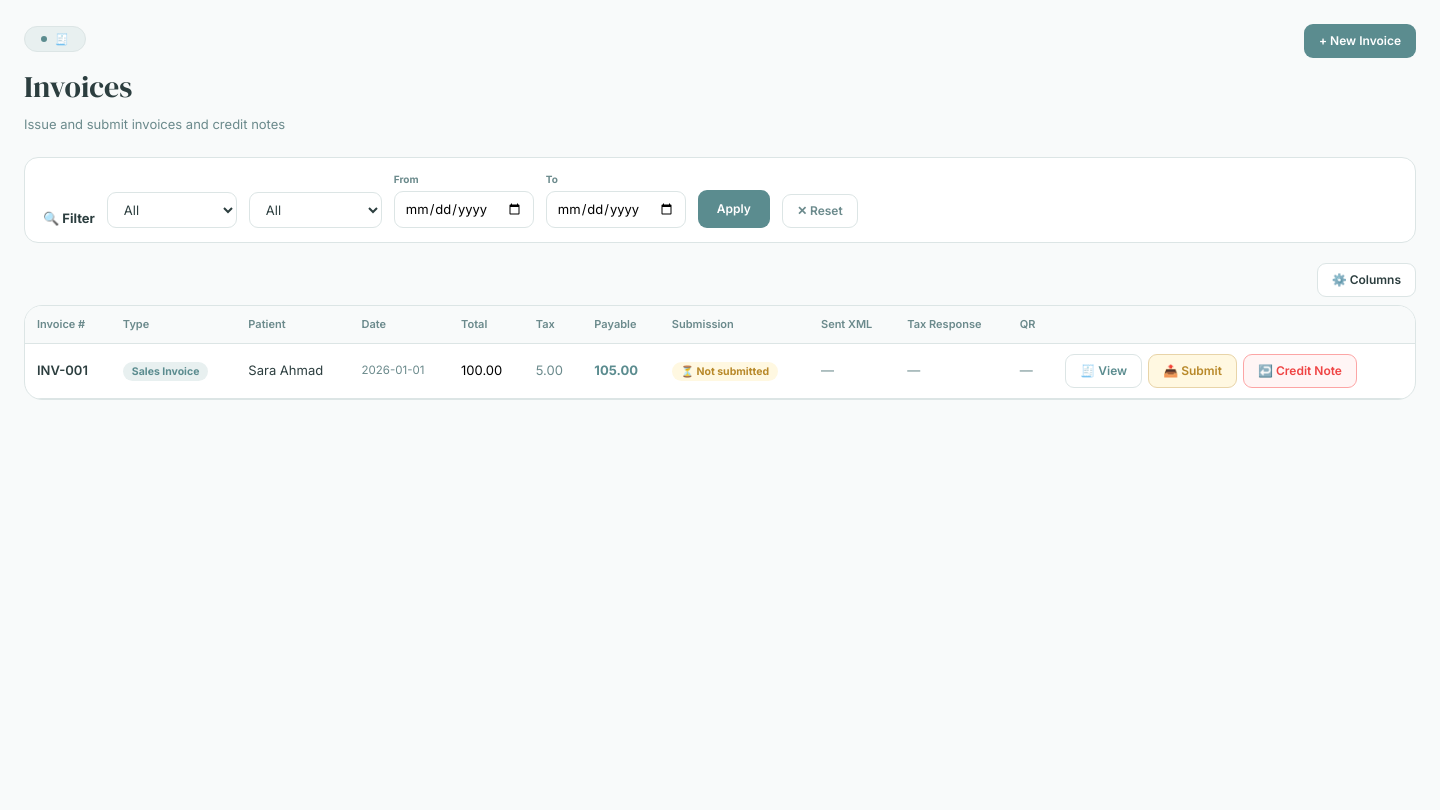
Test: Invoices › closes the invoice modal on Escape and returns focus to the View button
Expected: the text "Sara Ahmad" is shown, 236,343 -> 350,398
Step 1. Click the button "🧾 View" → (1104, 371), box 1065,354 -> 1142,388
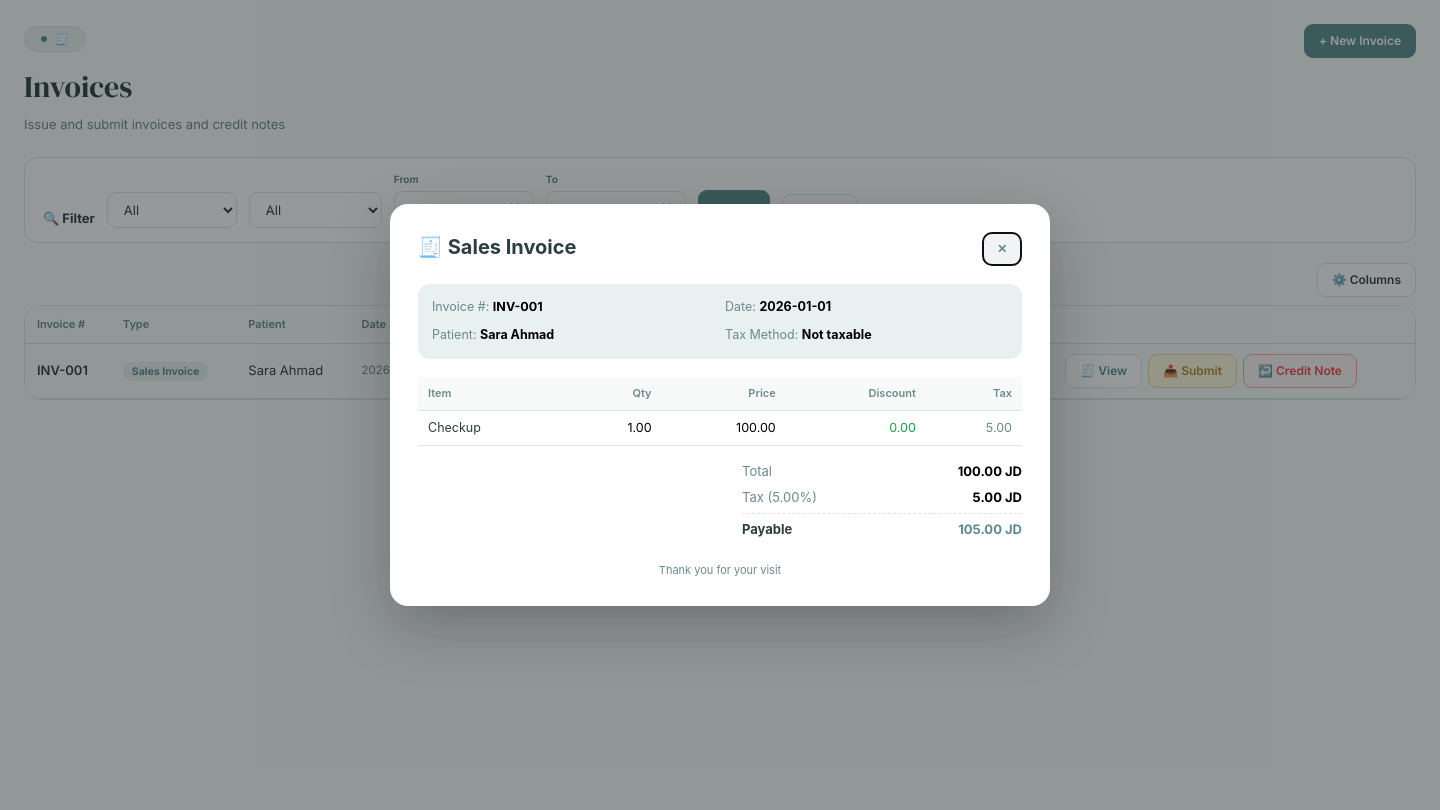
Step 2. Press Escape
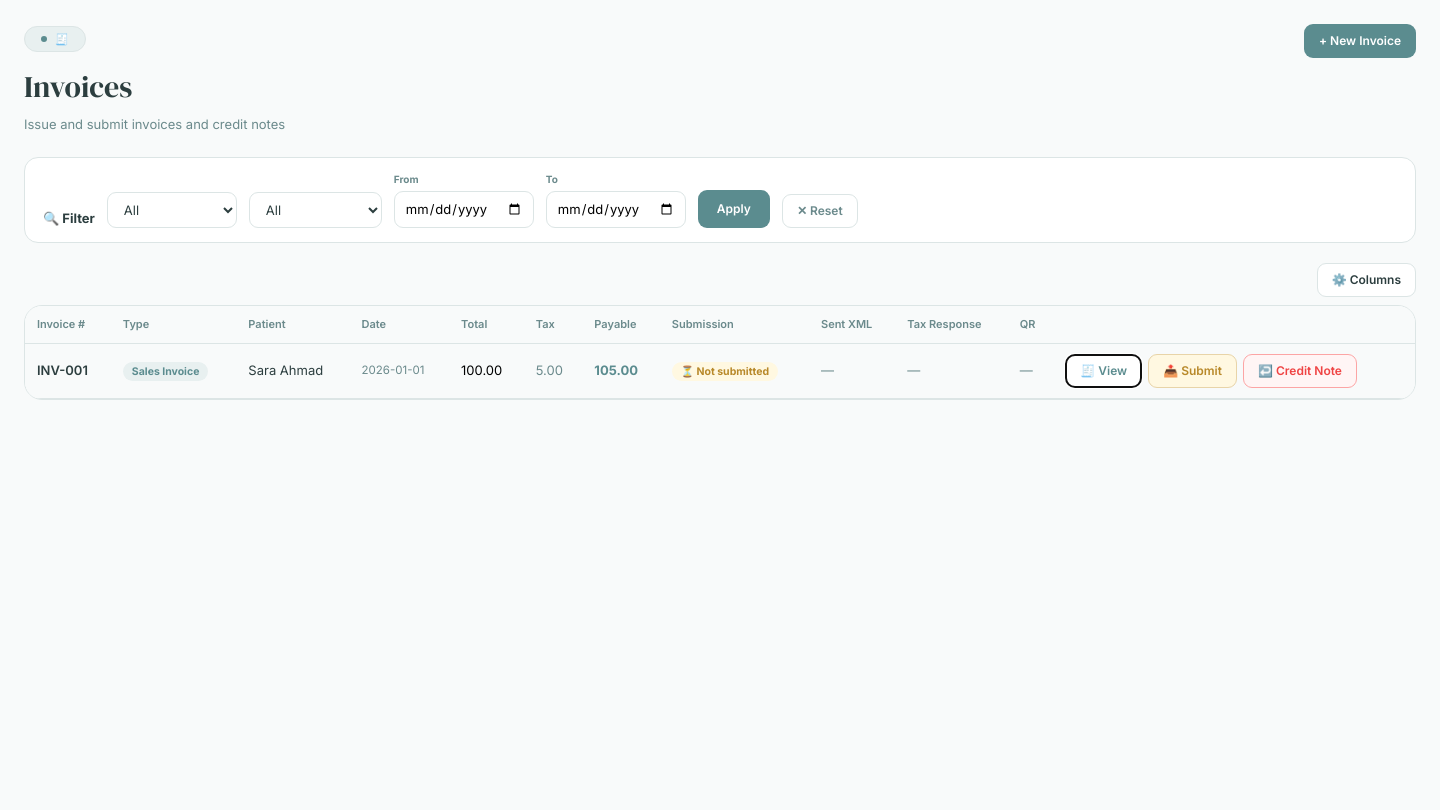
Result: the dialog is gone
